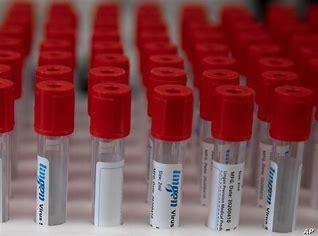Syringe: (264, 80, 317, 234), (203, 80, 257, 230), (84, 78, 132, 231), (148, 81, 190, 236), (32, 79, 72, 229)
